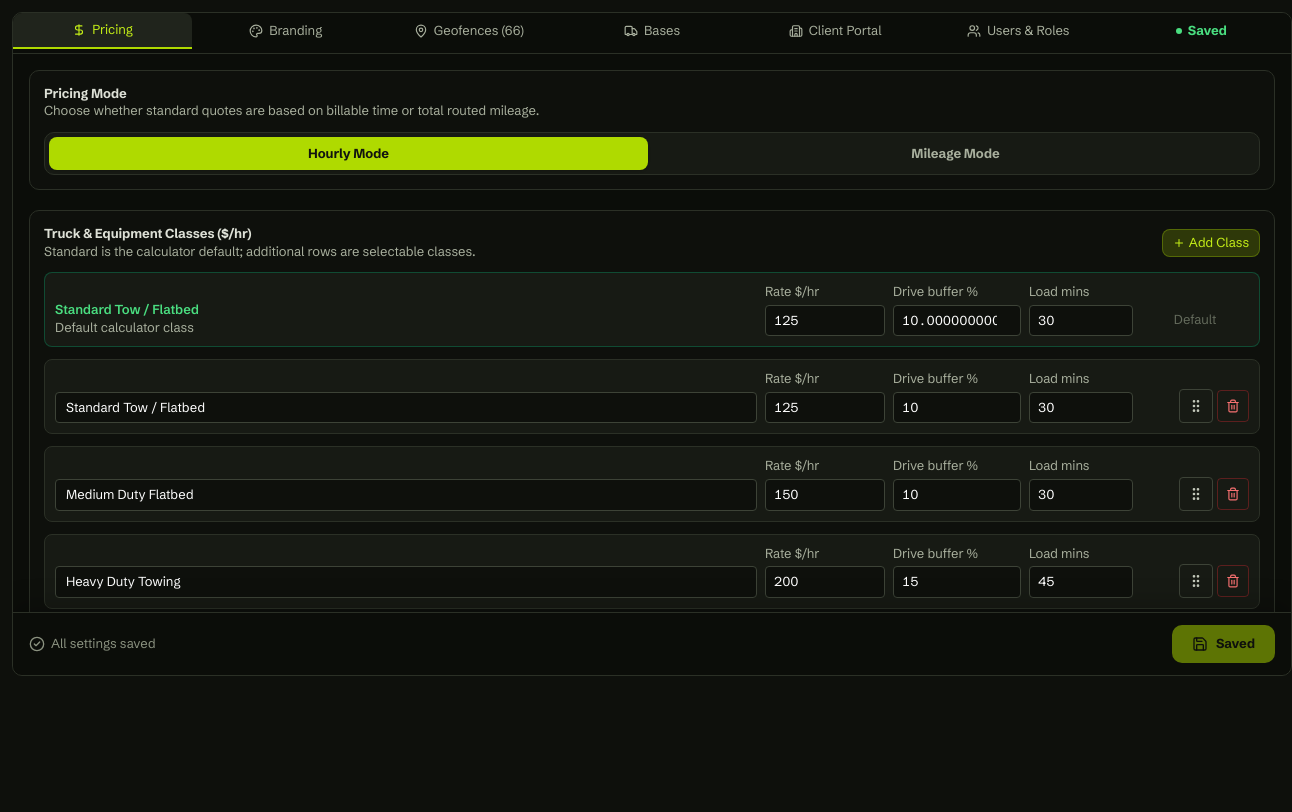
Scenario: Settings unsaved-change behavior › editing an existing custom geofence priority enables Save Settings
This screenshot has width=1292, height=812.
Click the button "Geofences (66)" at (469, 31), box x1=379 y1=13 x2=558 y2=48
(page scrolled)
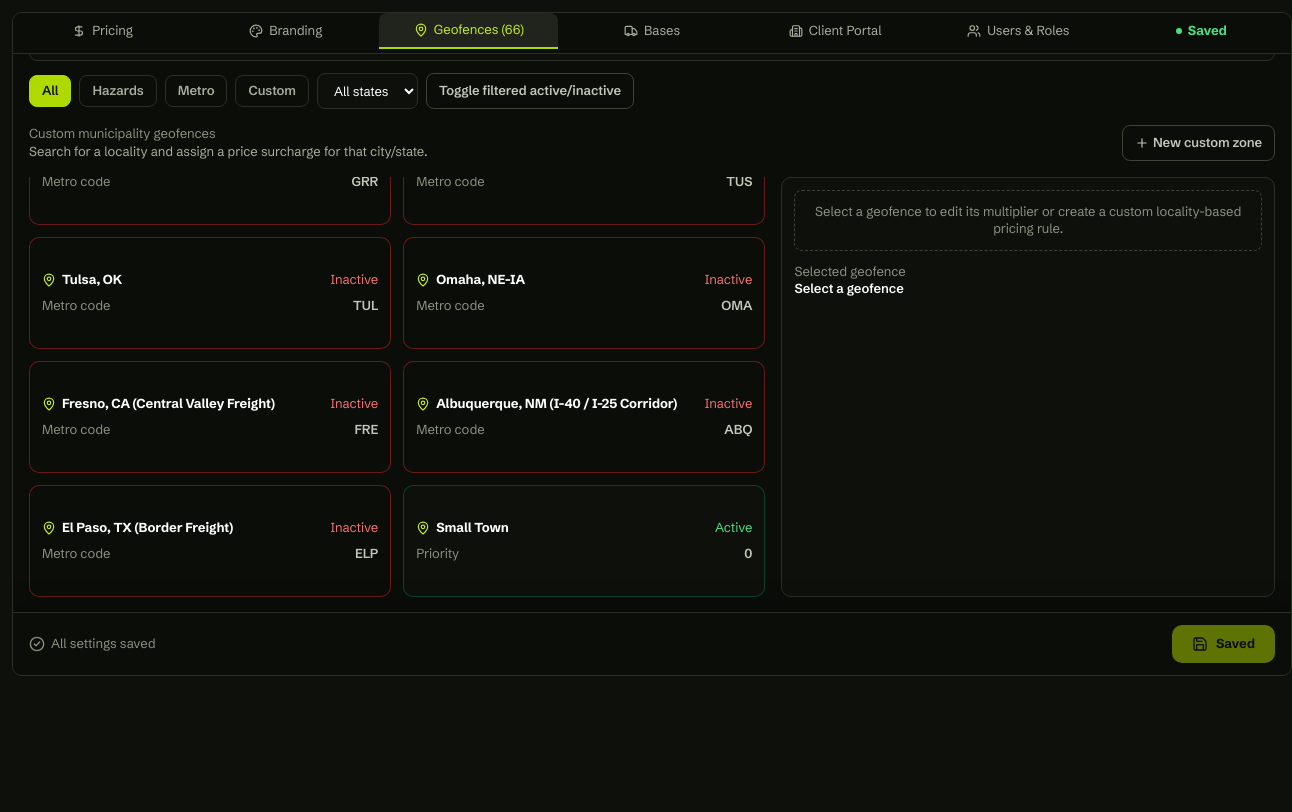
Click the button "Small Town Active Priority 0" at (473, 527), box x1=403 y1=485 x2=765 y2=597
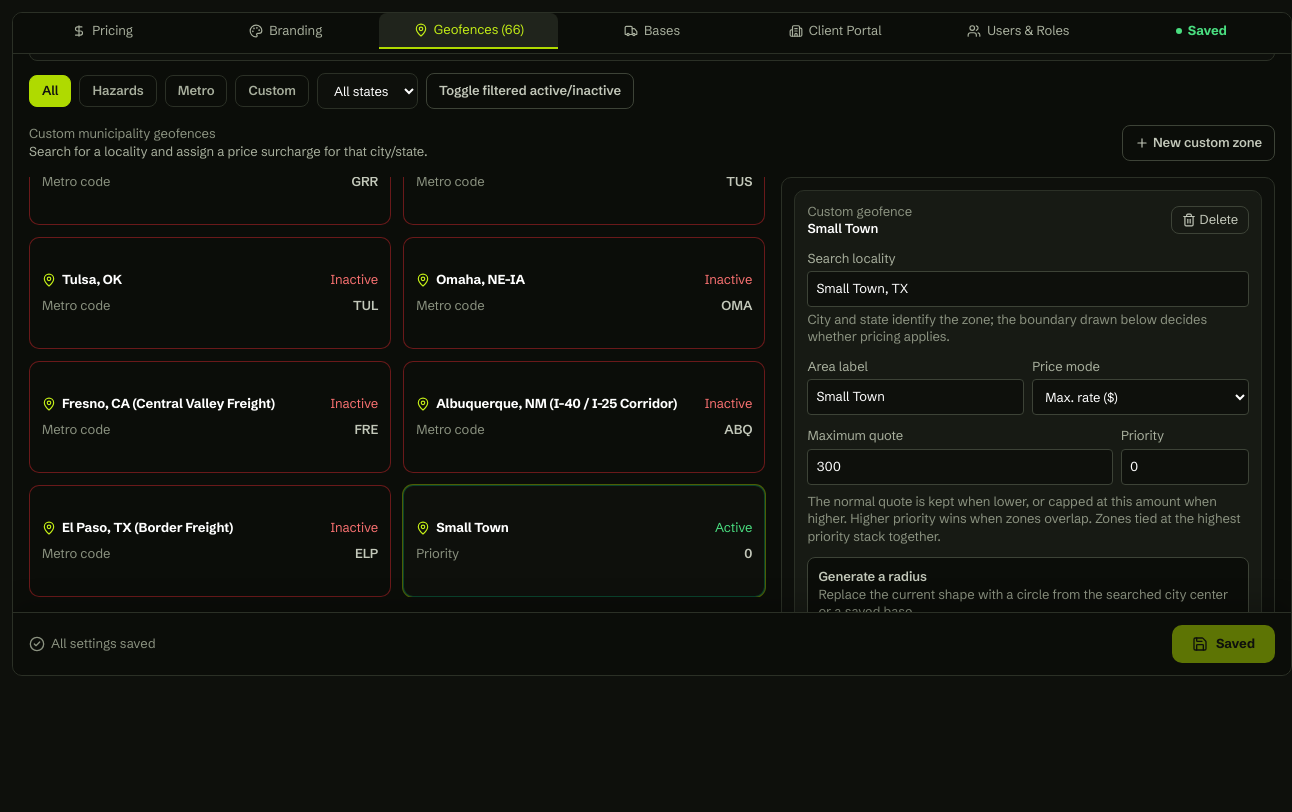
Replace the text in the number field named "Priority" with "20" at (1185, 467), box x1=1121 y1=449 x2=1249 y2=484
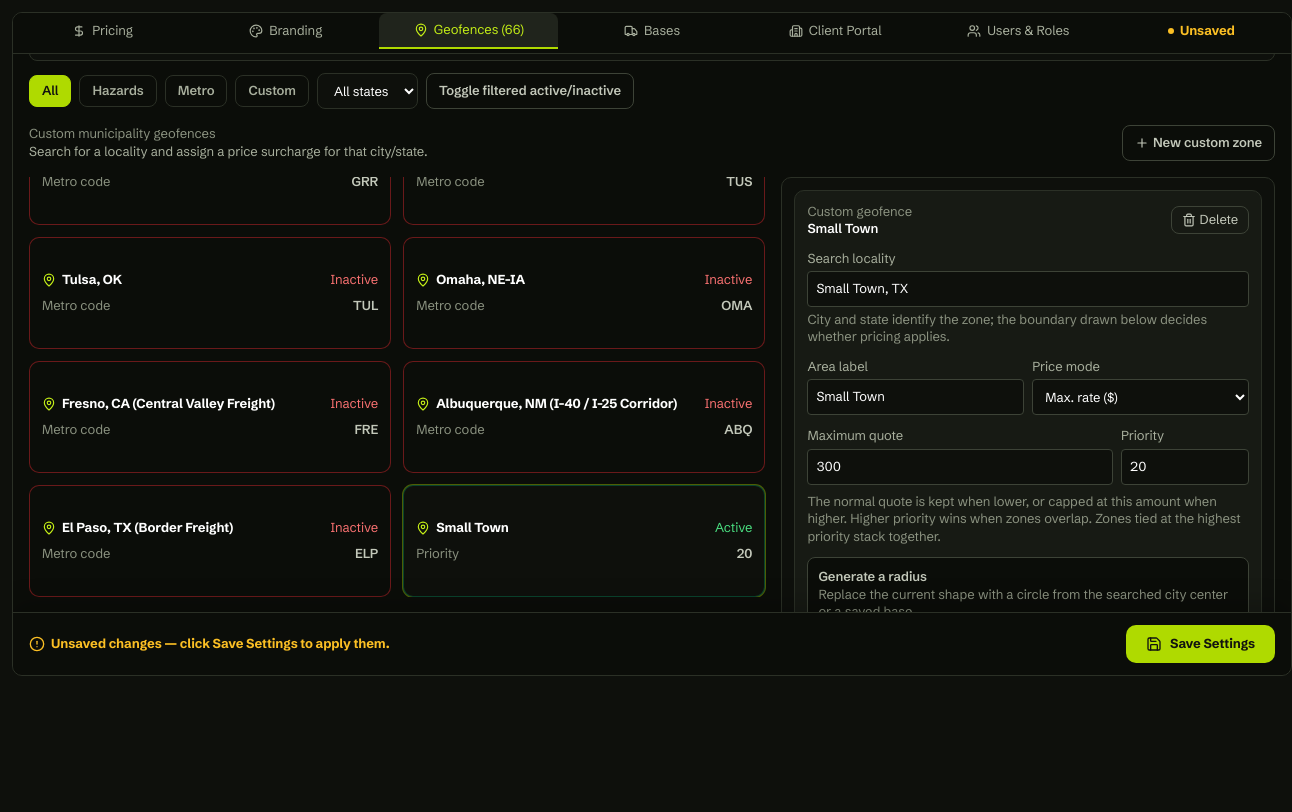
Result: the button "Save Settings" is enabled at x1=1126 y1=626 x2=1275 y2=663
